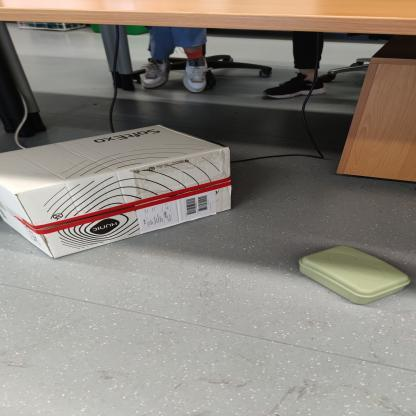-: (0, 116, 271, 257), (292, 235, 414, 315)
